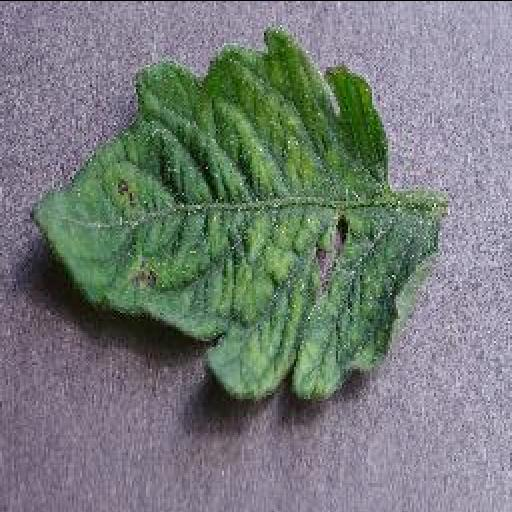Mosaic Virus: (25, 25, 439, 399)
